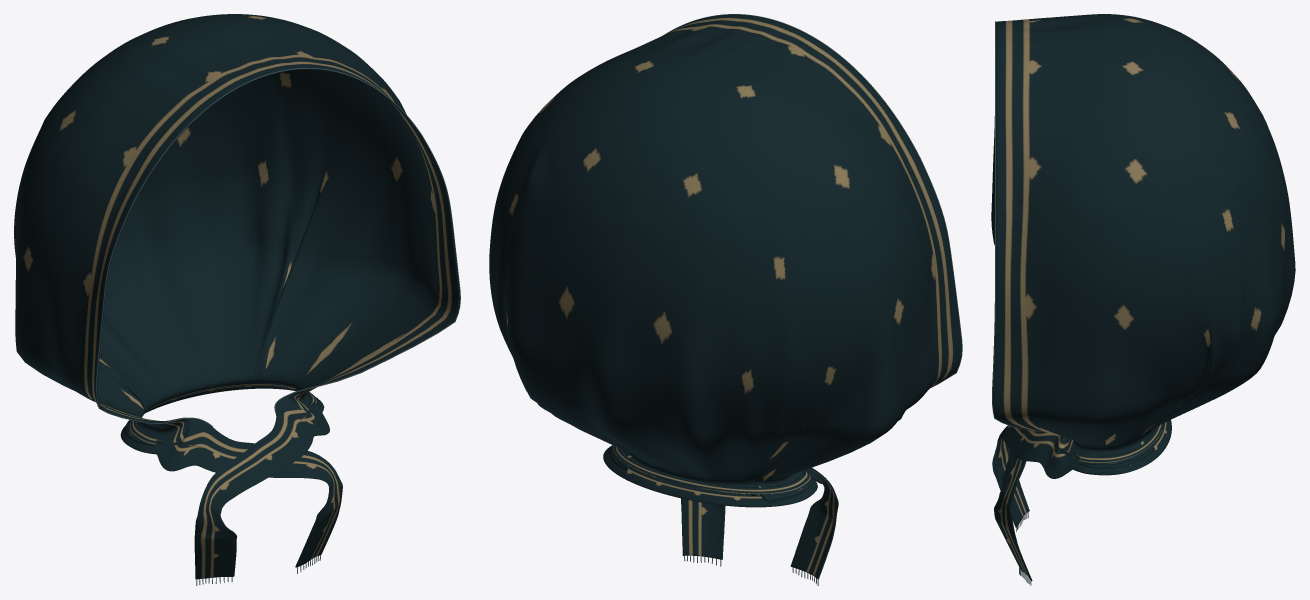
Rendered from Feminine-bandeau-pashmina242-headgear.glb.
The picture shows the model from 3 angles, left to right: view 1: azimuth 30°, elevation 25°; view 2: azimuth 150°, elevation 25°; view 3: azimuth 270°, elevation 25°; orthographic projection. The views are drawn at different scales.
Visible parts, largest first — view 1: 226 headgear / Headwear / continuous woven pashmina239, 226 headgear / Headwear / face edge239; view 2: 226 headgear / Headwear / continuous woven pashmina239, 226 headgear / Headwear / face edge239; view 3: 226 headgear / Headwear / continuous woven pashmina239, 226 headgear / Headwear / face edge239.
Part boxes in pixels (bbox=[...]): 226 headgear / Headwear / continuous woven pashmina239: bbox=[14, 14, 459, 579]; 226 headgear / Headwear / face edge239: bbox=[95, 68, 460, 426]; 226 headgear / Headwear / continuous woven pashmina239: bbox=[489, 14, 961, 579]; 226 headgear / Headwear / face edge239: bbox=[664, 14, 962, 387]; 226 headgear / Headwear / continuous woven pashmina239: bbox=[991, 14, 1295, 581]; 226 headgear / Headwear / face edge239: bbox=[992, 21, 1042, 431].
Size of the model in its own units: 1.02 by 1.35 by 0.7116.
3 materials, 1 textured.
